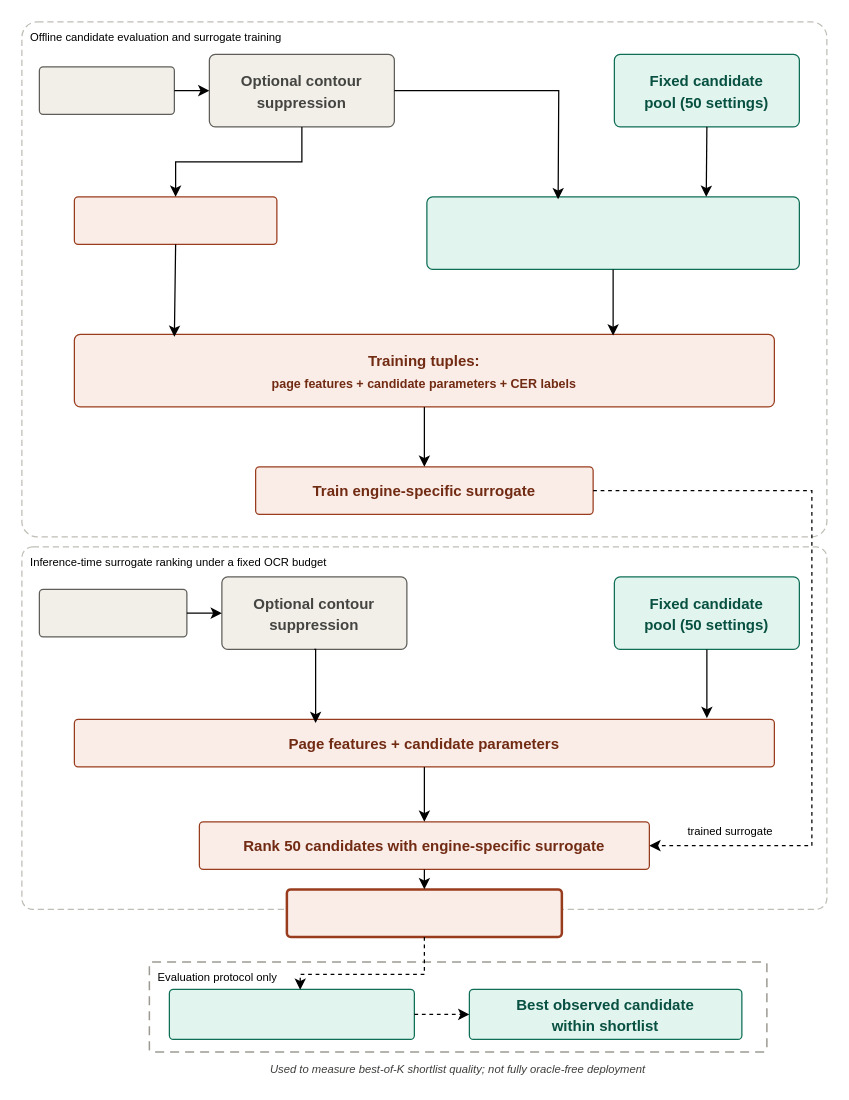
The diagram is 849 pixels wide and 1100 high, and some of its shapes have lost their labels. Each missing label, with the centre of its shape:
Extract page features once: (x=175, y=220)
Input page: (x=106, y=90)
New input page: (x=112, y=612)
OCR on shortlisted candidates (K calls): (x=291, y=1013)
Run OCR pipeline on fixed pool → CER labels (×50): (x=612, y=232)
Top-K shortlist: (x=423, y=913)
